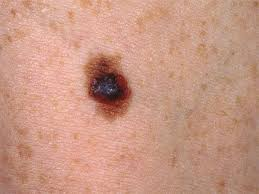melanoma: (59, 45, 150, 126)
